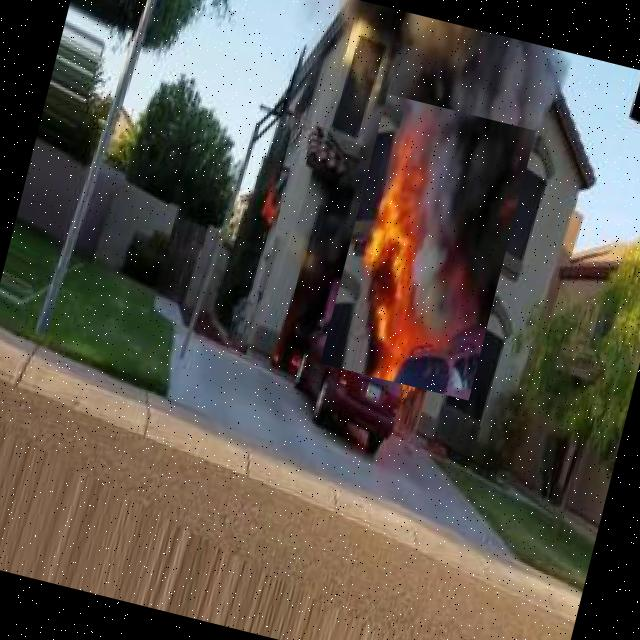fire: (320, 94, 536, 400)
